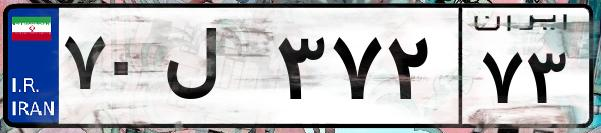0: (110, 28, 158, 98)
2: (385, 28, 445, 110)
3: (270, 28, 330, 110), (525, 38, 570, 115)
7: (330, 28, 385, 110), (57, 26, 110, 100), (475, 38, 525, 113)
ل: (158, 20, 270, 120)
